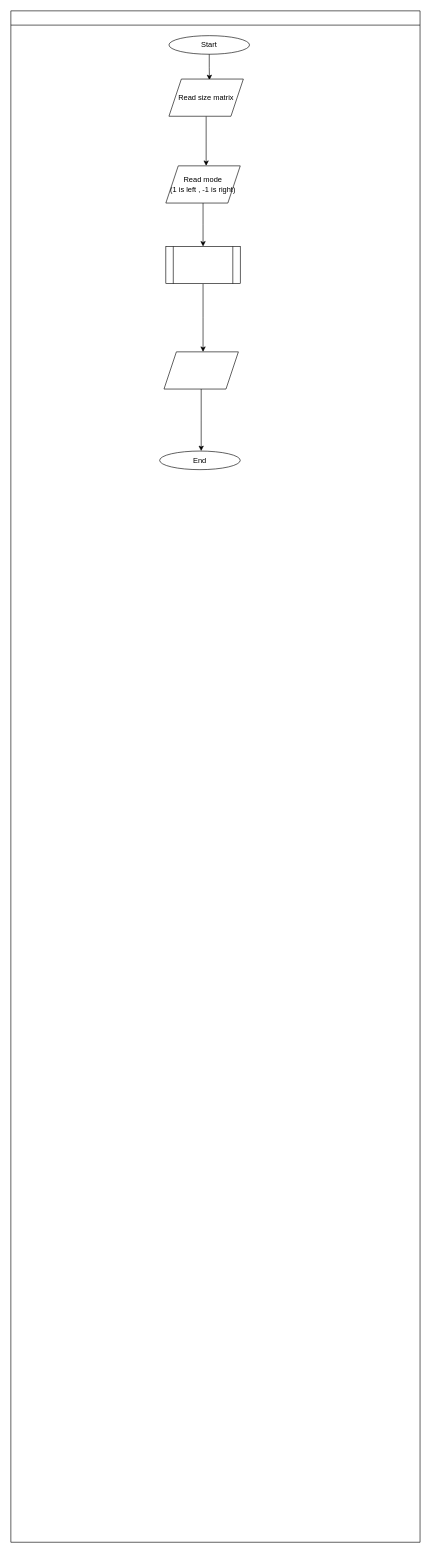
Some shapes in this 431 by 1553 pixel diagram are drawn without their labels. Each missing label, with the box of its shape:
Display whole of matrix: (163, 351, 238, 389)
modifyMatrix() for mode left angle or right angle: (165, 246, 240, 284)
